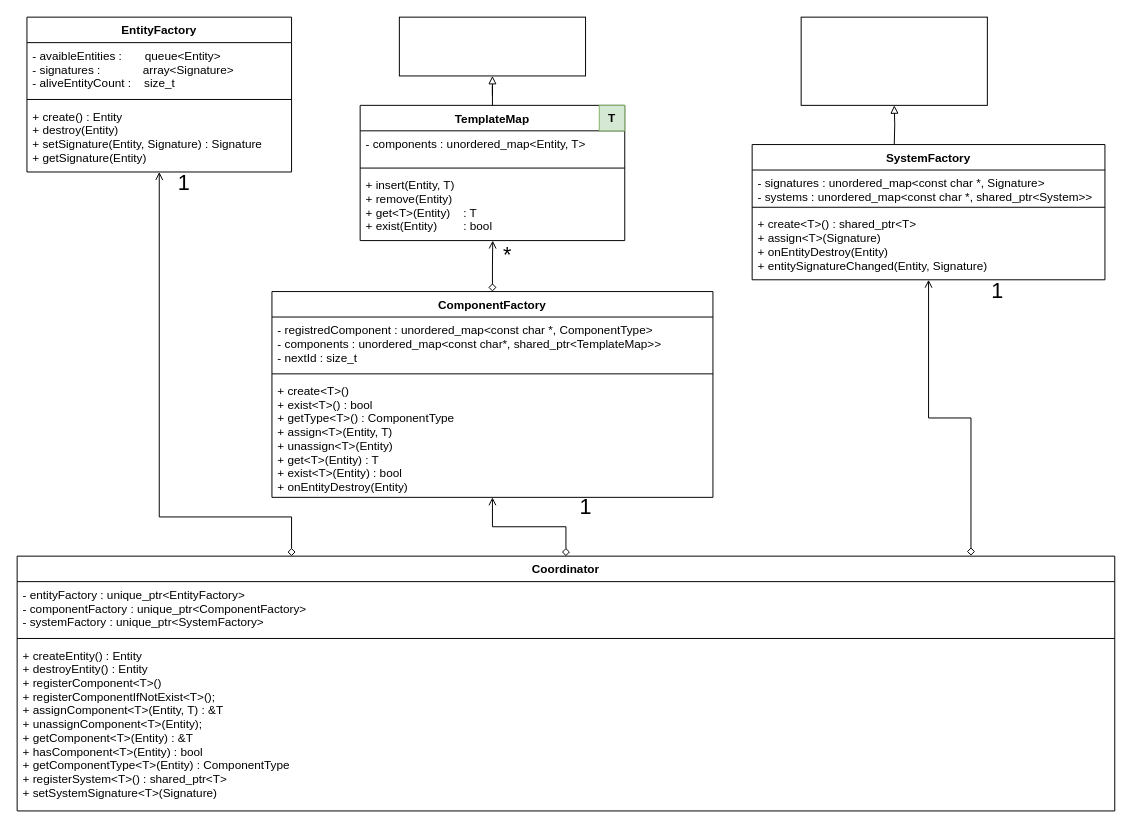
Some shapes in this 1132 by 831 pixel diagram are drawn without their labels. The centre of each missing label's shape, as x and y in pixels:
"ITemplateMap Interface + onEntityDestroy(Entity)" belongs at pixel 492 46.
"System Interface + entities : std::list<Entity>" belongs at pixel 893 60.
